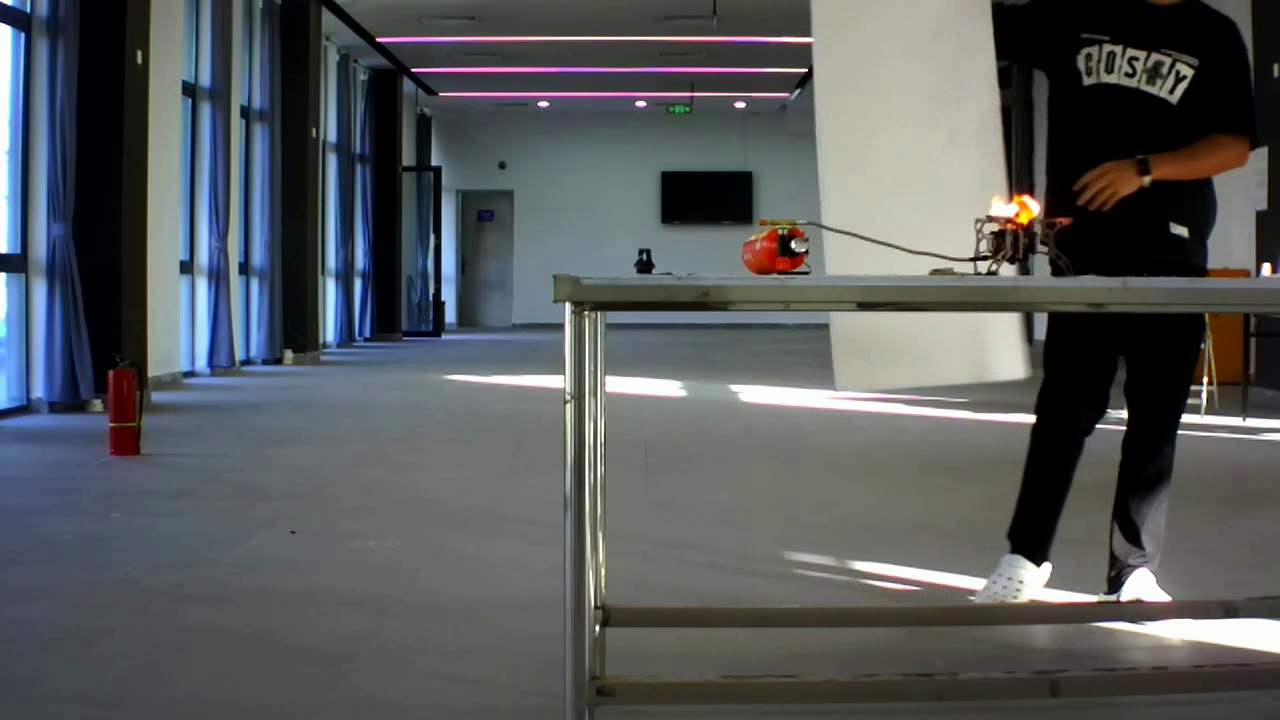Fire: (982, 190, 1042, 228)
